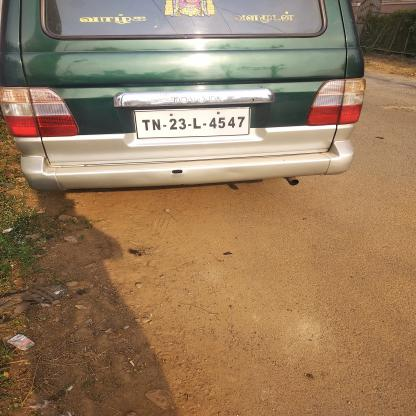Number_Plate_Detected: (134, 104, 252, 141)
